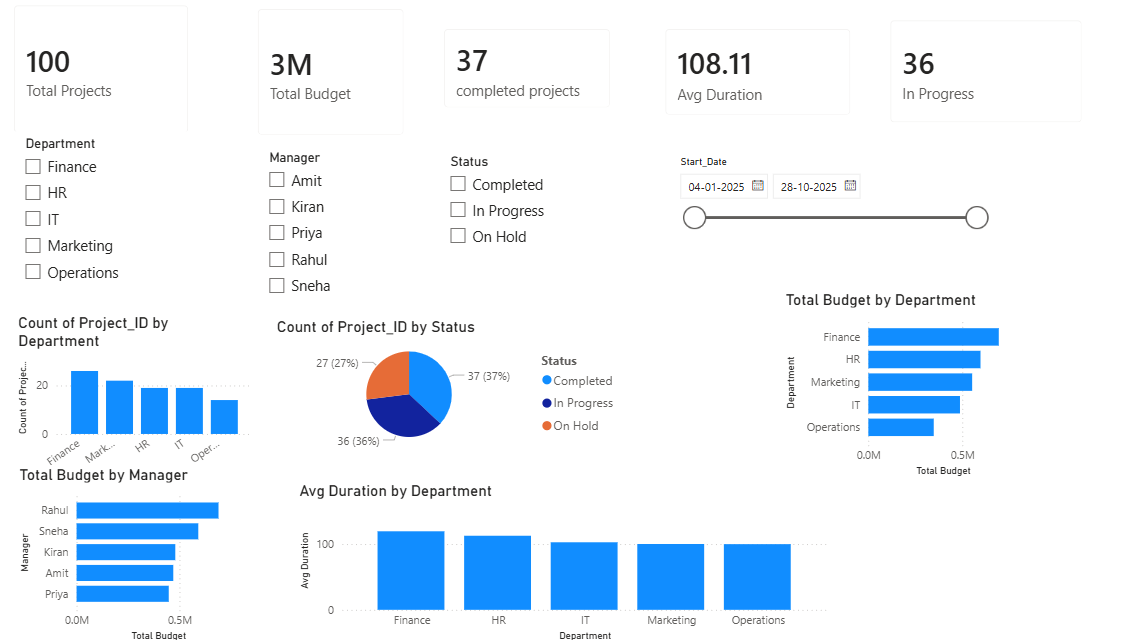

Layout of this report page (visuals, bound fields, positions):
{"tool":"powerbi","page":{"name":"Page 1","canvas":[1280,720],"ordinal":0},"visuals":[{"type":"cardVisual","fields":{"Data":["Project_Data.Total Projects"]},"box":[9.6,0,225,174.3],"z":0},{"type":"cardVisual","fields":{"Data":["Project_Data.Total Budget"]},"box":[277.2,4.1,194.9,172.9],"z":1000},{"type":"cardVisual","fields":{"Data":["Project_Data.completed projects"]},"box":[481.6,26.1,216.8,120.8],"z":2000},{"type":"cardVisual","fields":{"Data":["Project_Data.In Progress"]},"box":[971.5,16.5,244.3,146.8],"z":3000},{"type":"cardVisual","fields":{"Data":["Project_Data.Avg Duration"]},"box":[724.5,26.1,237.4,129],"z":4000},{"type":"clusteredColumnChart","title":"Projects by Department","fields":{"Category":["Project_Data.Department"],"Y":["CountNonNull(Project_Data.Project_ID)"]},"box":[26.1,355.4,267.6,199],"z":5000},{"type":"clusteredBarChart","fields":{"Category":["Project_Data.Department"],"Y":["Project_Data.Total Budget"]},"box":[900.2,311.5,360.9,209.9],"z":6000},{"type":"pieChart","title":"Project Status Distribution","fields":{"Category":["Project_Data.Status"],"Y":["CountNonNull(Project_Data.Project_ID)"]},"box":[310.1,359.5,388.3,149.6],"z":7000},{"type":"clusteredBarChart","title":"Budget by Manager","fields":{"Category":["Project_Data.Manager"],"Y":["Project_Data.Total Budget"]},"box":[27.4,521.4,267.6,199],"z":8000},{"type":"clusteredColumnChart","title":"Average Project Duration by Department","fields":{"Category":["Project_Data.Department"],"Y":["Project_Data.Avg Duration"]},"box":[503.6,509.1,590.1,203.1],"z":9000},{"type":"slicer","fields":{"Values":["Project_Data.Department"]},"box":[26.1,155.1,267.6,192.1],"z":10000},{"type":"slicer","fields":{"Values":["Project_Data.Manager"]},"box":[293.7,170.2,209.9,177],"z":11000},{"type":"slicer","fields":{"Values":["Project_Data.Status"]},"box":[492.6,174.3,160.5,172.9],"z":12000},{"type":"slicer","fields":{"Values":["Project_Data.Start_Date"]},"box":[745.1,177,359.5,131.7],"z":13000}]}

Visuals, with their boxes in screenshot pixels (x1, y1, x2, y2), scaled from the page's 1280x720 canvas onto the 1142x640 screenshot:
cardVisual - Project_Data.Total Projects: 9, 0, 209, 155
cardVisual - Project_Data.Total Budget: 247, 4, 421, 157
cardVisual - Project_Data.completed projects: 430, 23, 623, 131
cardVisual - Project_Data.In Progress: 867, 15, 1085, 145
cardVisual - Project_Data.Avg Duration: 646, 23, 858, 138
"Projects by Department" clusteredColumnChart: 23, 316, 262, 493
clusteredBarChart - Project_Data.Department x Project_Data.Total Budget: 803, 277, 1125, 463
"Project Status Distribution" pieChart: 277, 320, 623, 453
"Budget by Manager" clusteredBarChart: 24, 463, 263, 639
"Average Project Duration by Department" clusteredColumnChart: 449, 453, 976, 633
slicer - Project_Data.Department: 23, 138, 262, 309
slicer - Project_Data.Manager: 262, 151, 449, 309
slicer - Project_Data.Status: 439, 155, 583, 309
slicer - Project_Data.Start_Date: 665, 157, 986, 274
